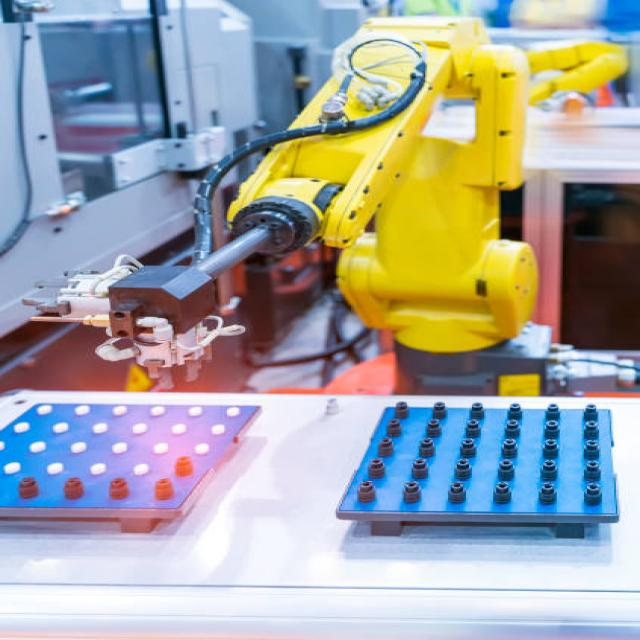Robotic-arm: (223, 3, 586, 401)
